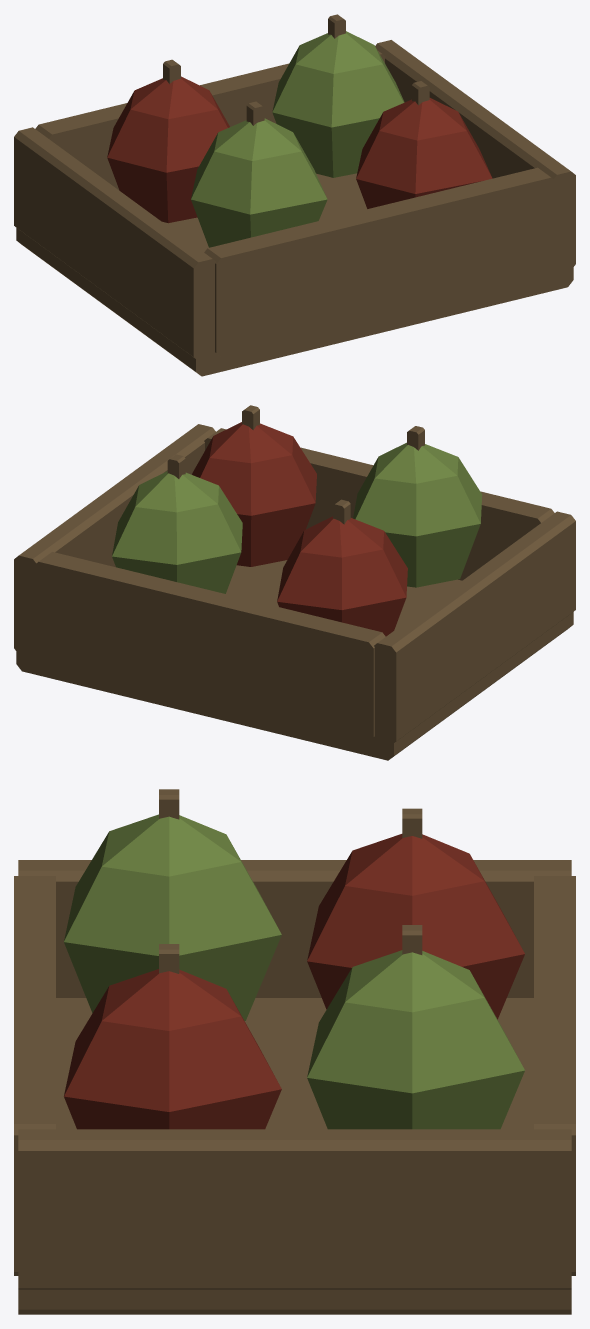
File: RawFood.gltf
3 views of the same model, one above another, from view 1: azimuth 30°, elevation 25°; view 2: azimuth 150°, elevation 25°; view 3: azimuth 270°, elevation 25° (orthographic). The views are drawn at different scales.
Parts seen in each view (by area): view 1: RawFood; view 2: RawFood; view 3: RawFood.
Part boxes in pixels (x1=…): RawFood: x1=14, y1=14, x2=575, y2=376; RawFood: x1=14, y1=405, x2=575, y2=760; RawFood: x1=14, y1=789, x2=575, y2=1314.
Bounding box in the file's own units: 0.405 × 0.2135 × 0.335.
